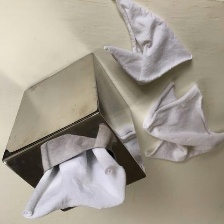tissue: (13, 142, 132, 224), (96, 0, 198, 89), (136, 75, 224, 171)
